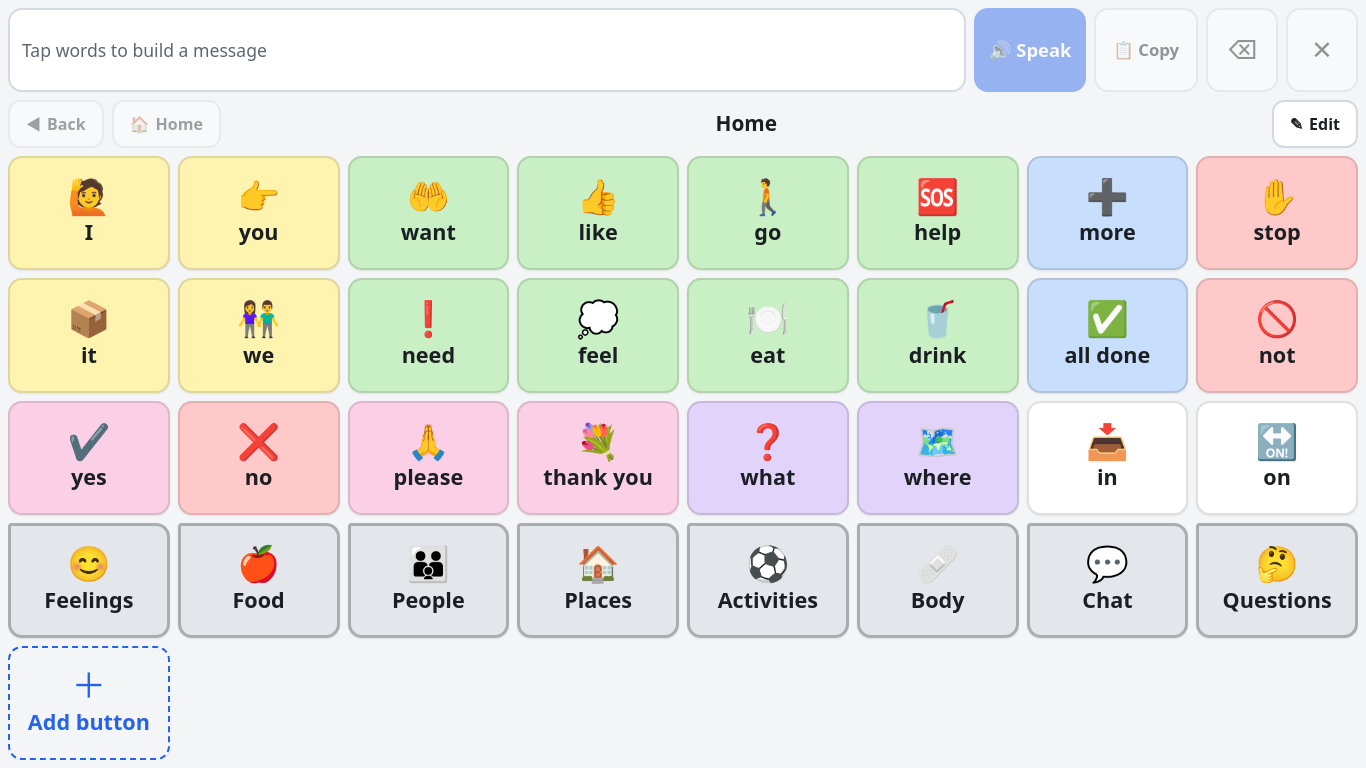
Test case: App › Add button on the Home board › is the same single Add button as in edit mode, and only on Home outside edit mode
This screenshot has width=1366, height=768.
Expected: the number of buttons "＋ Add button" is 1, [8, 646, 170, 760]
Click the button with aria-label "Open Food". click: (259, 580)
box: [178, 523, 340, 638]
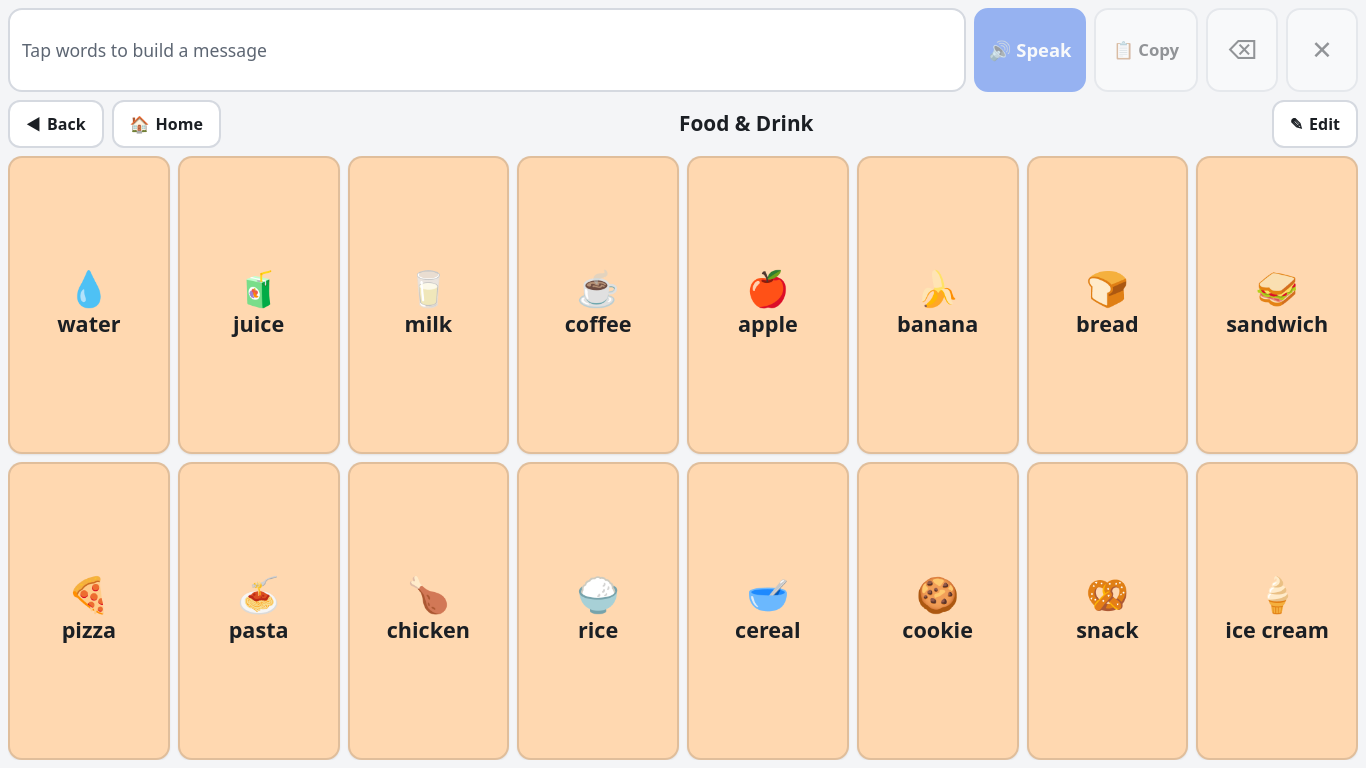
Now the button "Add button" is gone
Click the button "🏠 Home". click: (166, 124)
box: [112, 100, 221, 148]
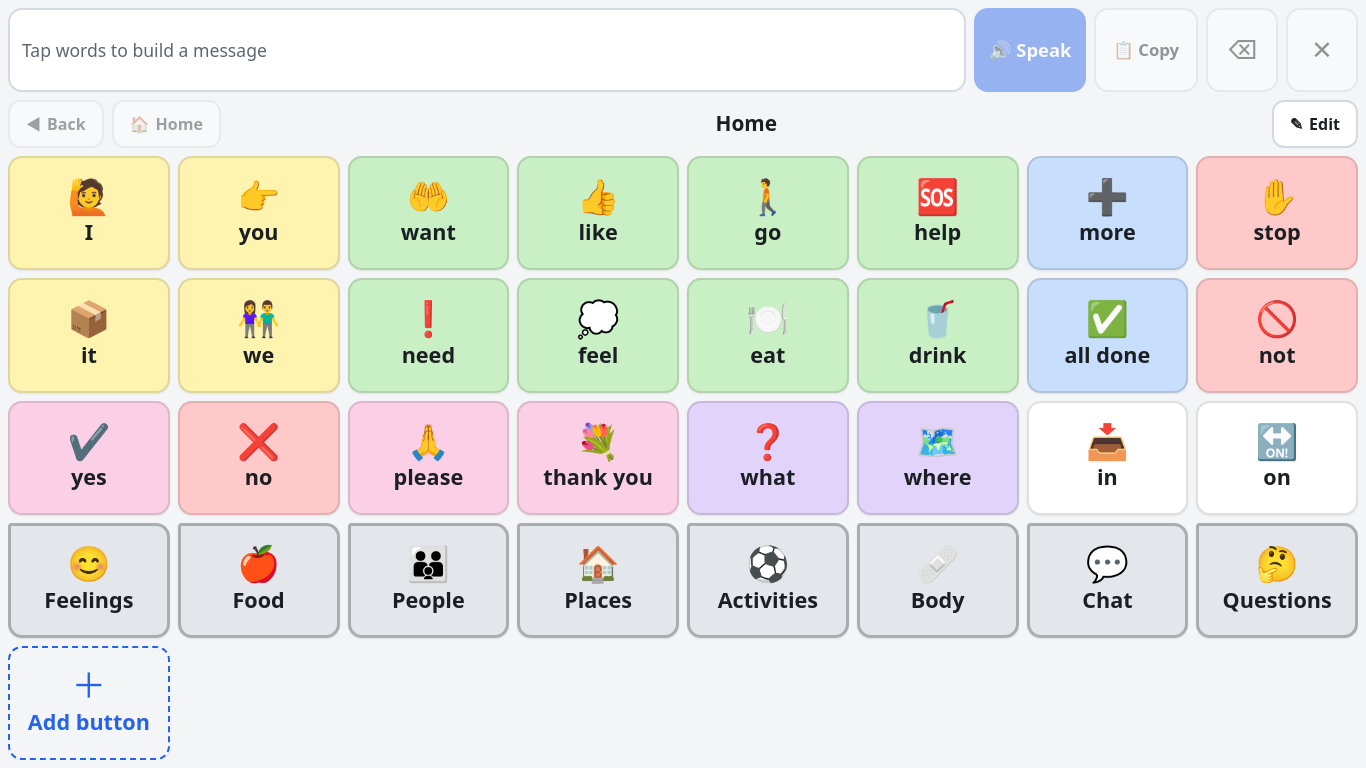
Click the button "✎ Edit". click: (1315, 124)
box: [1272, 100, 1358, 148]
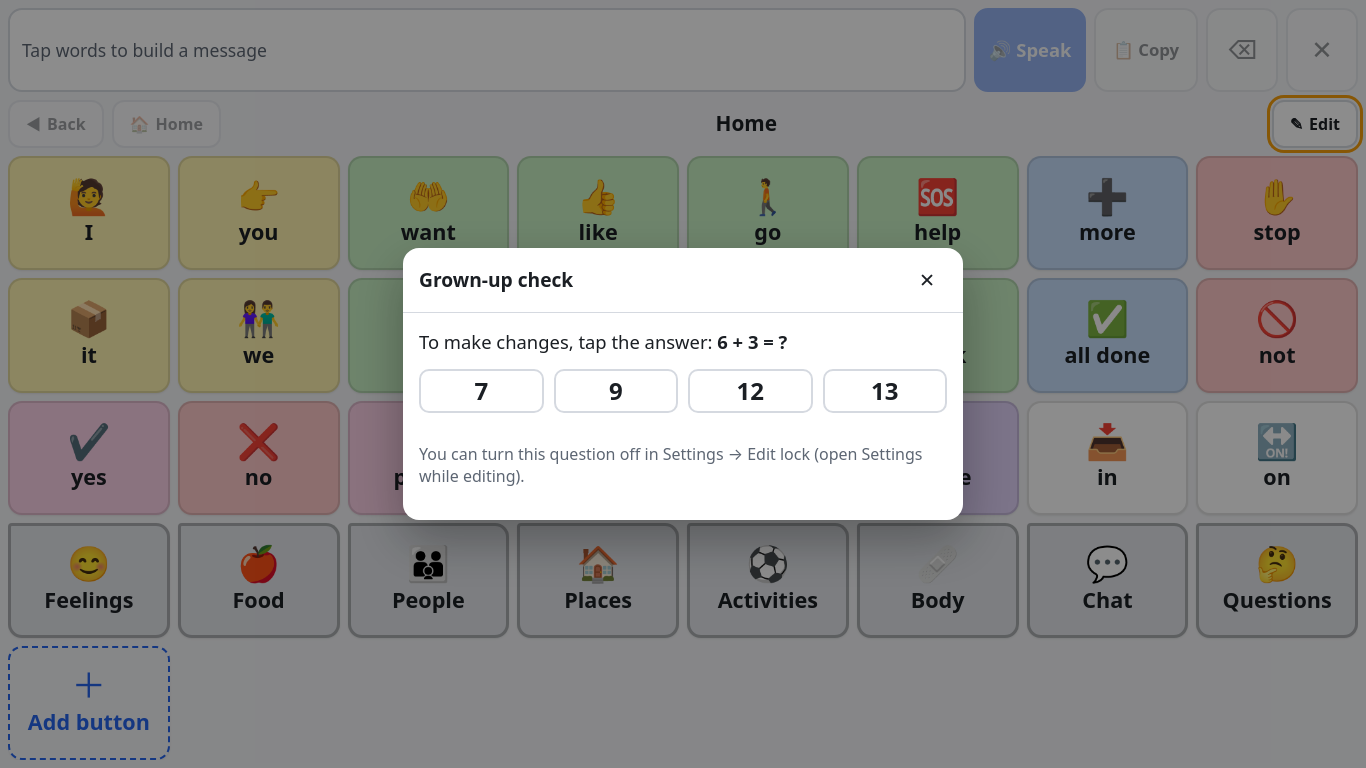
Click the button "9". click: (616, 391)
box: [554, 369, 678, 413]
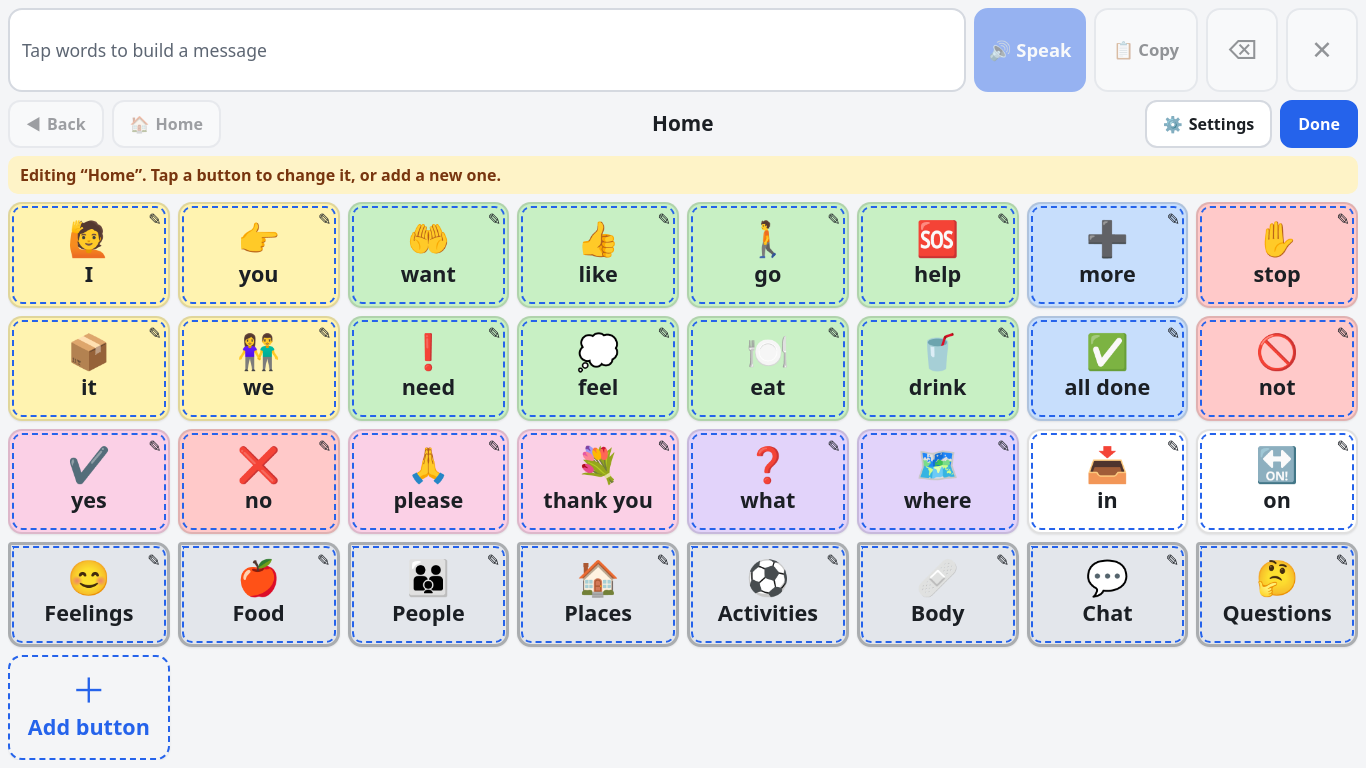
Now the number of buttons "＋ Add button" is 1
Click the button "＋ Add button". click: (89, 707)
box: [8, 655, 170, 760]
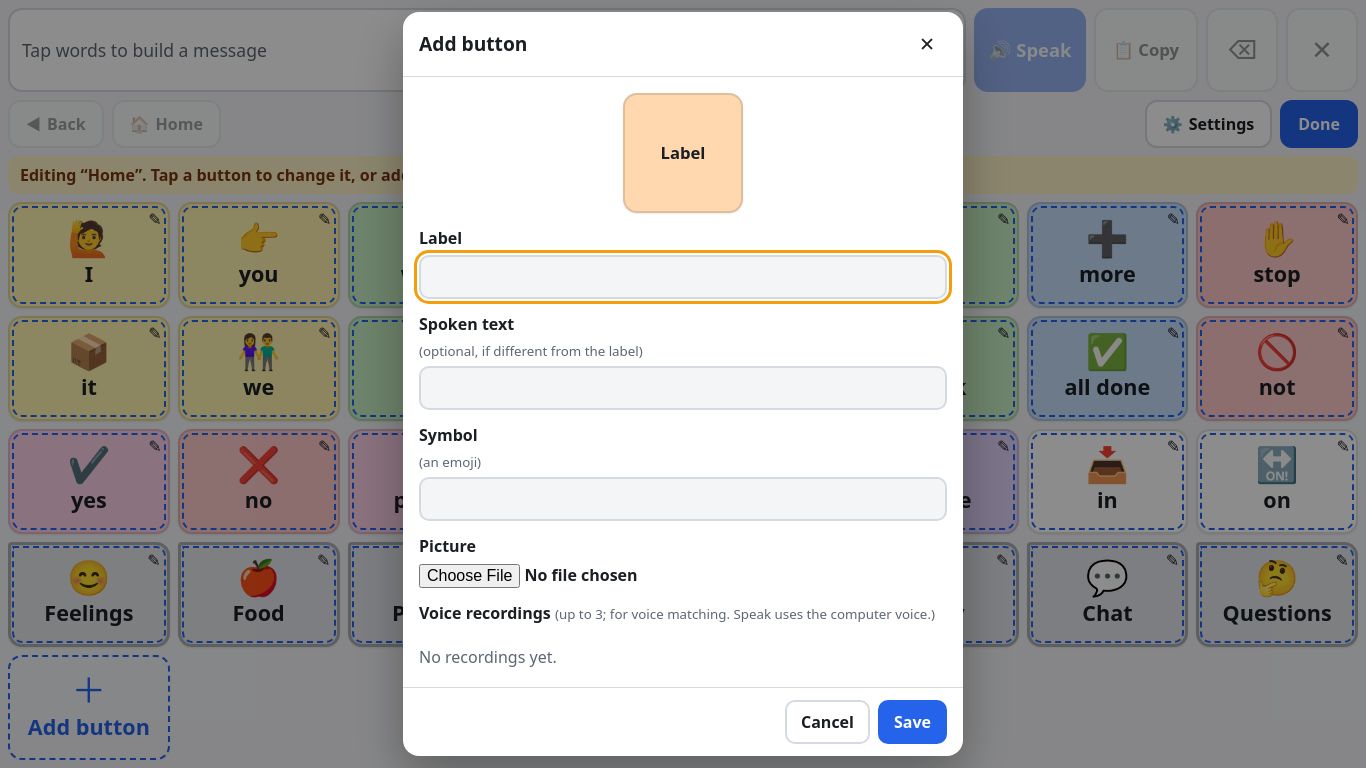
Expected: the heading "Grown-up check" is not shown
Now the dialog "Add button" is shown, box [403, 12, 963, 756]
